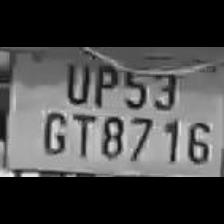1: (154, 113, 182, 163)
3: (150, 67, 178, 109)
5: (118, 61, 148, 108)
6: (181, 117, 211, 163)
7: (126, 111, 154, 163)
8: (96, 111, 124, 161)
G: (38, 108, 68, 154)
P: (89, 56, 119, 106)
T: (68, 110, 96, 158)
U: (60, 54, 90, 106)
